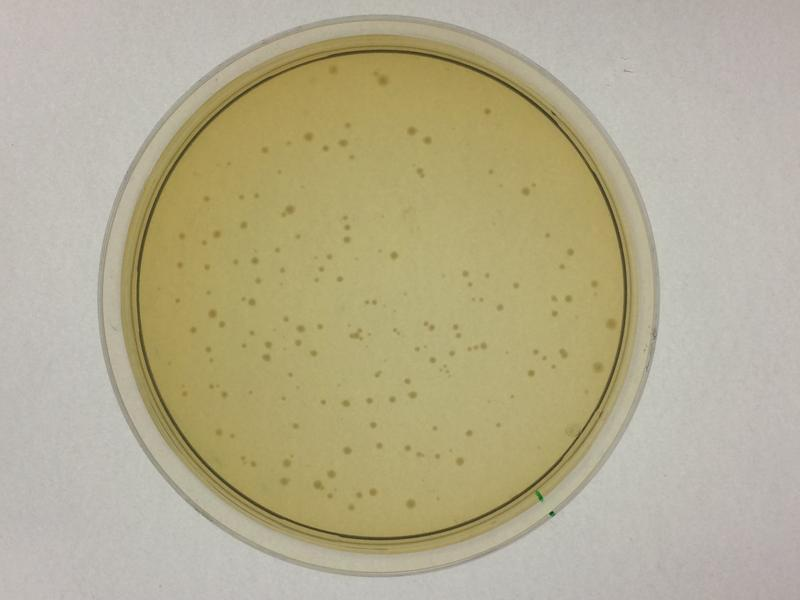colony: (405, 124, 420, 137), (406, 497, 419, 511), (604, 316, 617, 330), (406, 390, 422, 401), (525, 366, 538, 379), (278, 475, 291, 488), (259, 142, 270, 157), (341, 445, 354, 457), (302, 130, 314, 143), (481, 105, 494, 116), (317, 397, 328, 409), (308, 346, 319, 358), (214, 425, 224, 437), (175, 260, 184, 272), (391, 251, 400, 262), (335, 274, 346, 283), (456, 458, 466, 467), (201, 195, 211, 203), (292, 421, 299, 432), (466, 428, 473, 437)
